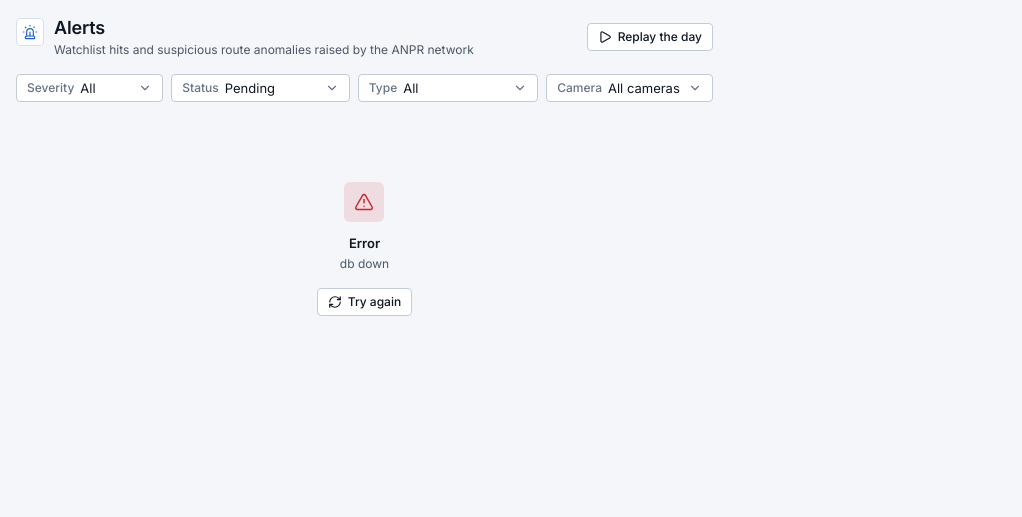
Test case: AlertsPage › renders the error state and retries
This screenshot has width=1022, height=517.
Expected: the text "db down" is shown, [340,256,389,272]
Click the button "Try again" at (364, 302), box [317,288,412,316]
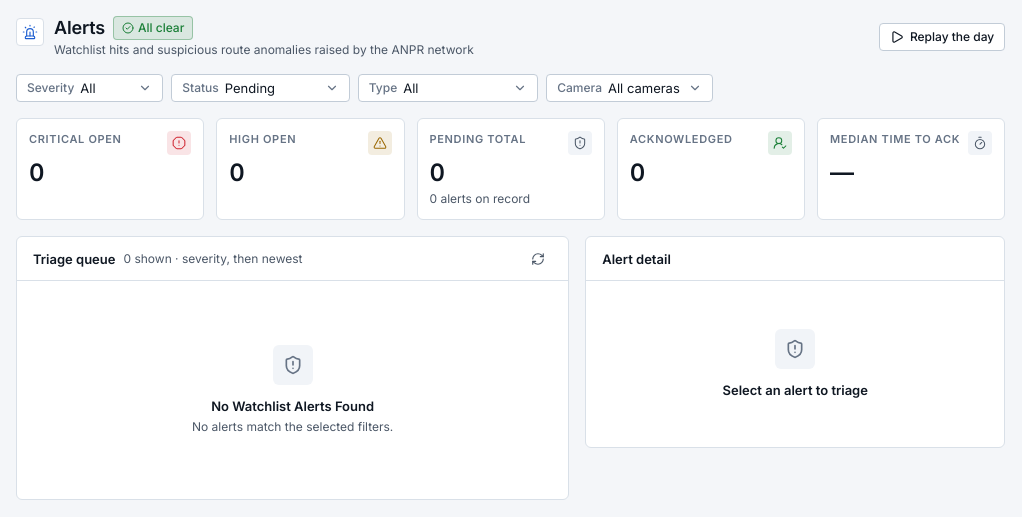
Expected: the heading "No Watchlist Alerts Found" is shown, [211,397,374,415]
